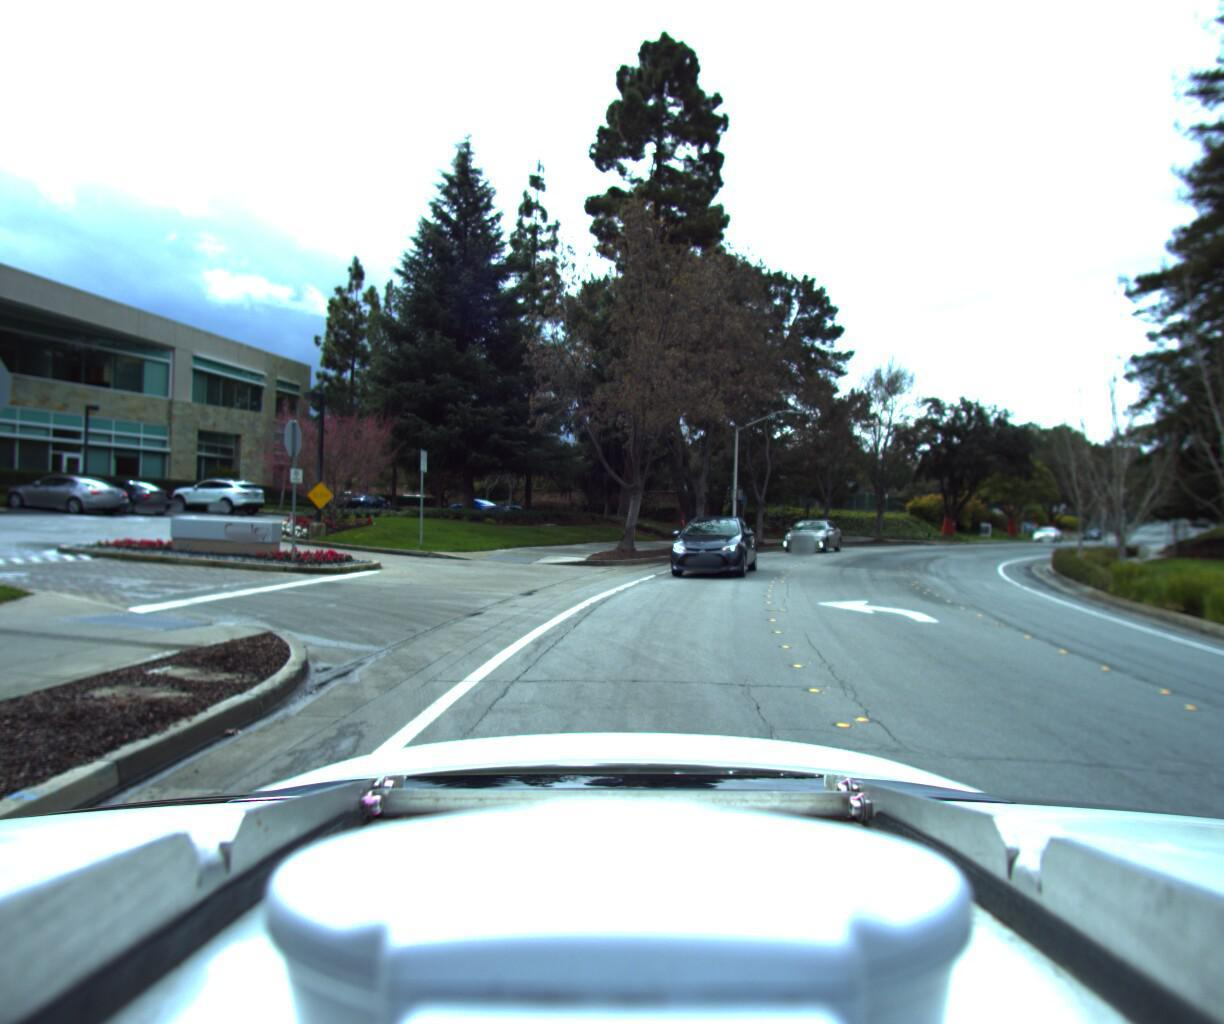car: (656, 509, 757, 580), (773, 511, 836, 549), (1028, 520, 1060, 540)
